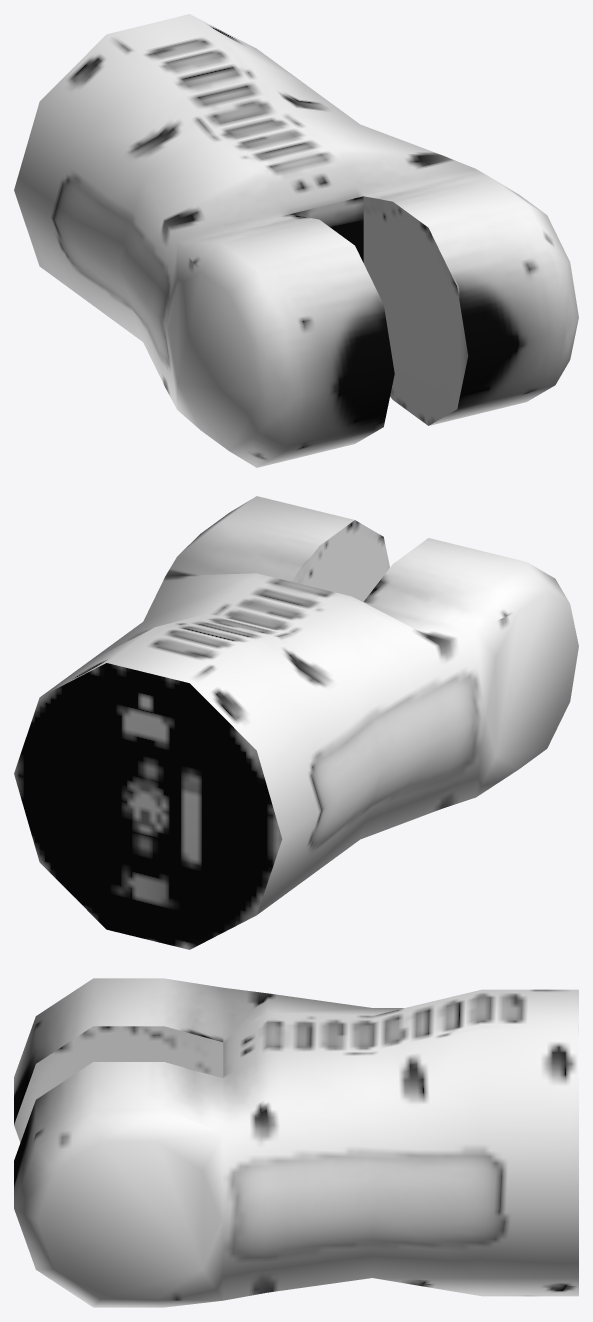
File: r_farm.obj
3 views of the same model, one above another, from view 1: azimuth 30°, elevation 25°; view 2: azimuth 150°, elevation 25°; view 3: azimuth 270°, elevation 25° (orthographic).
Parts seen in each view (by area): view 1: <dummy_root>; view 2: <dummy_root>; view 3: <dummy_root>.
Boxes of the visible parts, box(x1,y1,x2,y2) form: <dummy_root>: box(14, 14, 578, 467); <dummy_root>: box(14, 496, 578, 949); <dummy_root>: box(14, 978, 578, 1307).
Bounding box in the file's own units: 0.1246 × 0.0994 × 0.1915.
Materials: 1 (1 with a texture image).
